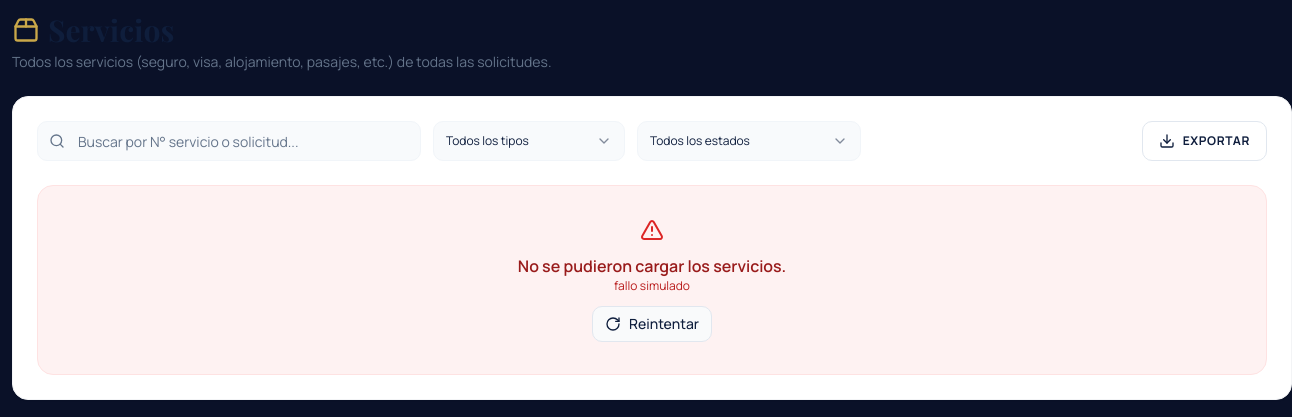
Test: ServicesPage paginada en el servidor › si la API falla muestra el error con Reintentar, no una lista vacía
Expected: the text "No se pudieron cargar los servicios." is shown, [518, 254, 786, 278]
Expected: the text "fallo simulado" is shown, [614, 277, 690, 294]
Click the button "Reintentar". click: (652, 324)
box: [592, 306, 712, 342]
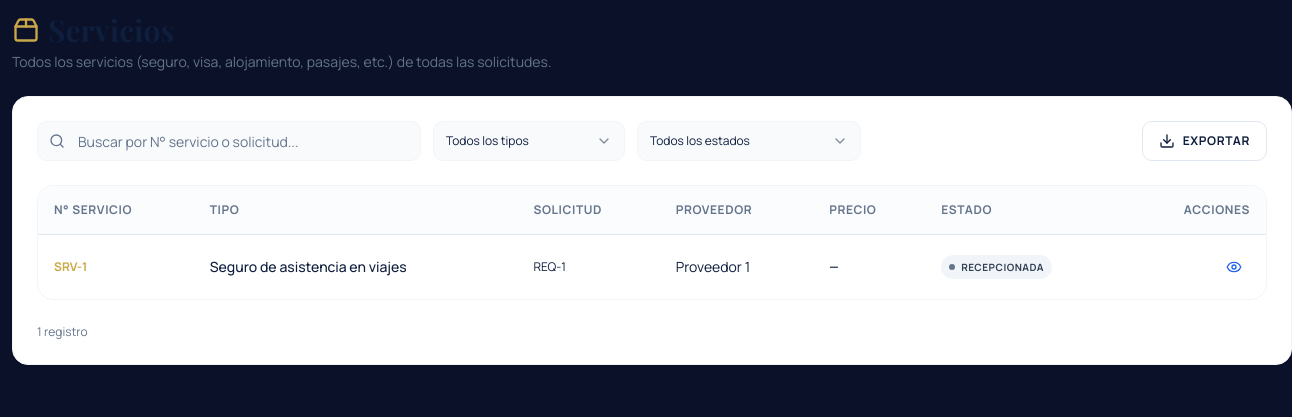
Result: the text "SRV-1" is shown at [38, 234, 194, 298]
